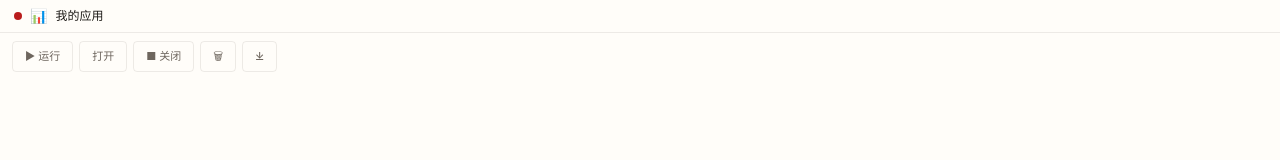
Test: AppDockPanel › N18：后端未启动时双击会先启动再打开；启动失败则留在 dock
The image size is (1280, 160).
Double-click the element showing "📊 我的应用".
double_click(640, 16)  # box 0,0 -> 1279,32
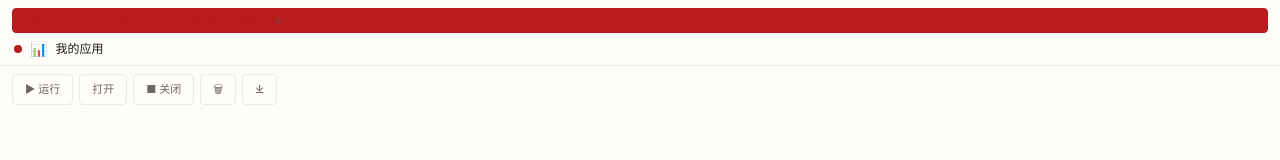
expect the text "应用 'app-1' 无法分配端口 3000：没有可用的本地端口 ×" is shown: met, box 12,8 -> 1268,33
